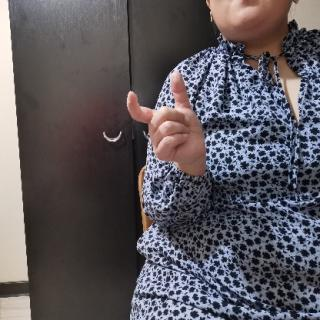NOON: (125, 68, 207, 172)
